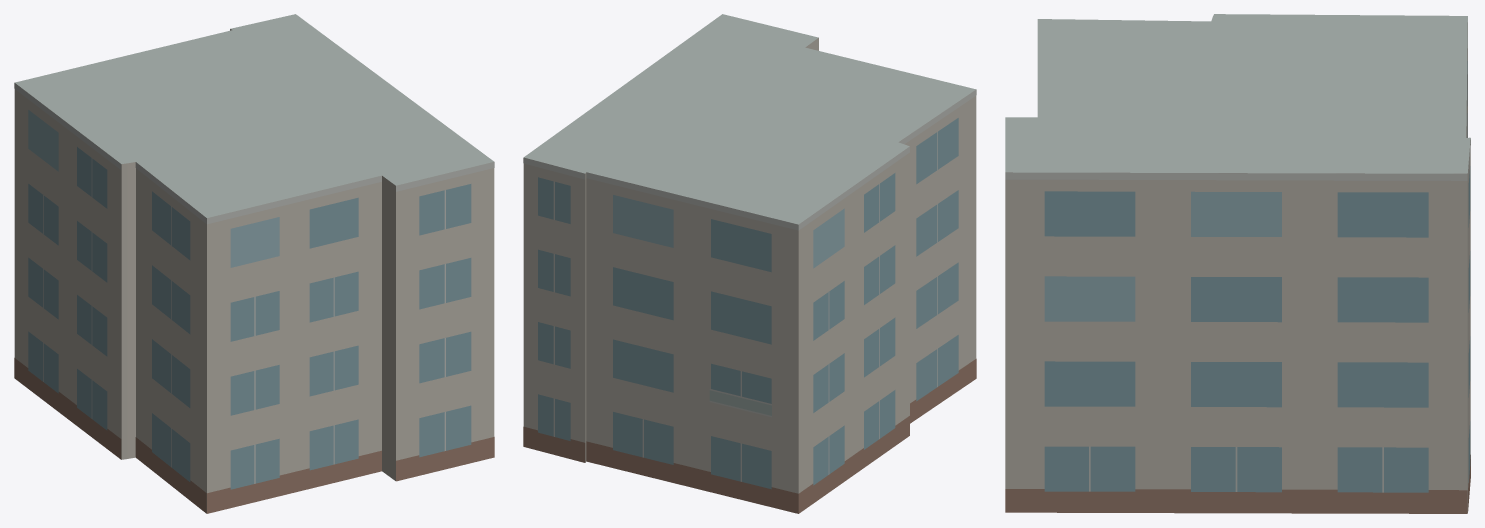
File: survey-upis-32624452.glb
The picture shows the model from 3 angles, left to right: view 1: azimuth 30°, elevation 25°; view 2: azimuth 150°, elevation 25°; view 3: azimuth 270°, elevation 25°; orthographic projection. The views are drawn at different scales.
Parts seen in each view (by area): view 1: survey-upis-32624452.tmp; view 2: survey-upis-32624452.tmp; view 3: survey-upis-32624452.tmp.
Part boxes in pixels (box(x1,y1,x2,y2)): survey-upis-32624452.tmp: box(14, 14, 494, 513); survey-upis-32624452.tmp: box(523, 14, 976, 513); survey-upis-32624452.tmp: box(1005, 14, 1470, 513).
Size of the model in its own units: 11.74 by 11.65 by 14.46.
